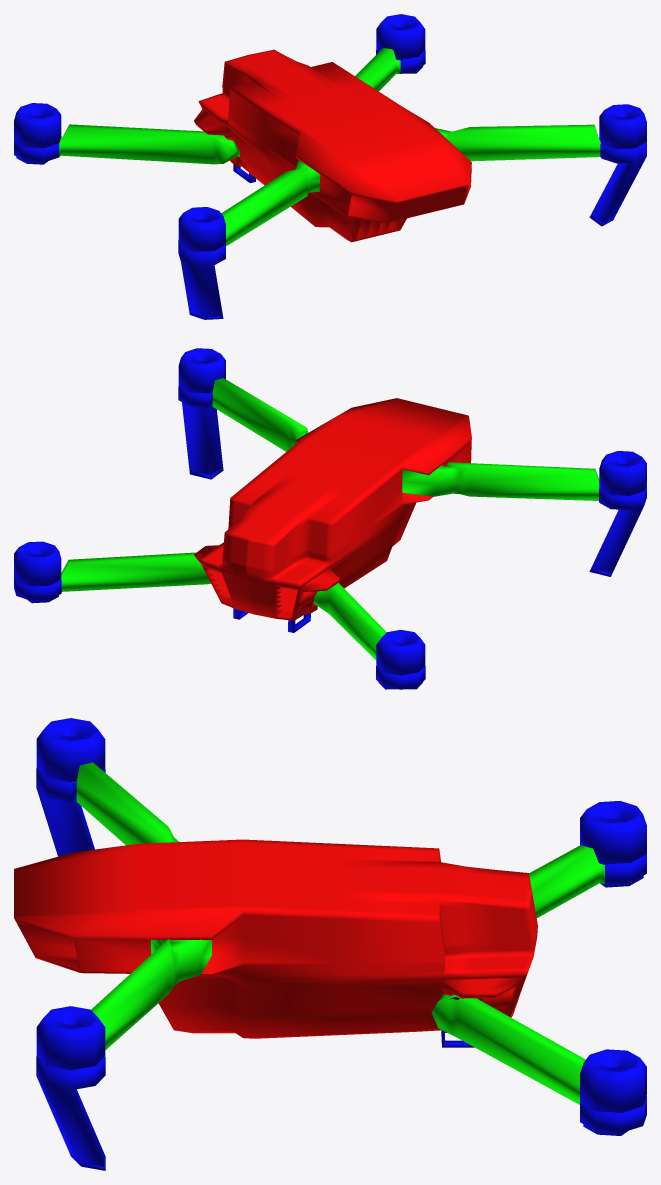
Rendered from drone_main.glb.
3 views of the same model, one above another, from view 1: azimuth 30°, elevation 25°; view 2: azimuth 150°, elevation 25°; view 3: azimuth 270°, elevation 25° (orthographic). The views are drawn at different scales.
Visible parts, largest first — view 1: Base Dji; view 2: Base Dji; view 3: Base Dji.
Part boxes in pixels (x1,y1,x2,y2): Base Dji: [14, 14, 646, 319]; Base Dji: [14, 348, 646, 689]; Base Dji: [14, 718, 646, 1170].
Size of the model in its own units: 1.79 by 0.4033 by 1.51.
1 material, 1 textured.
